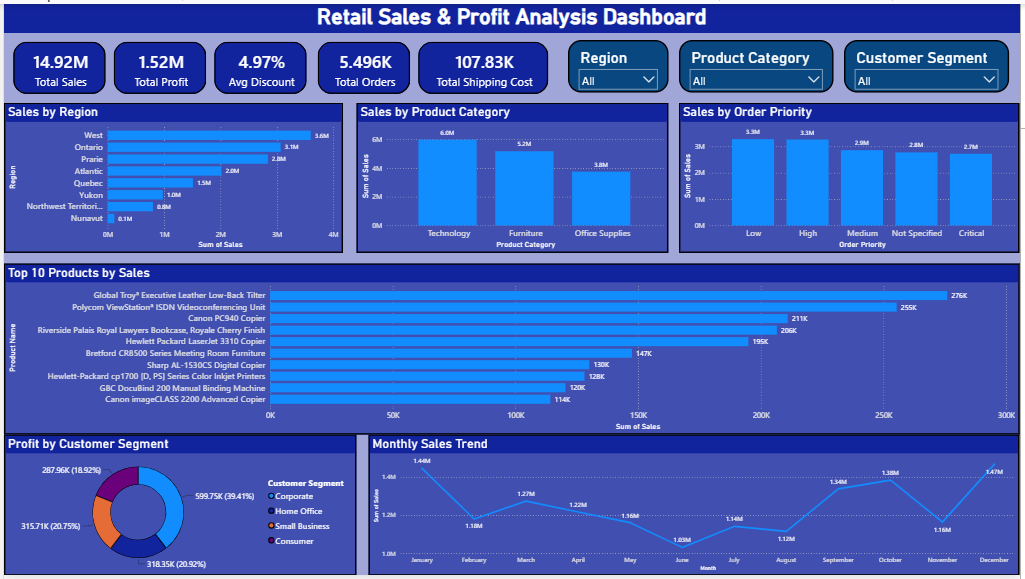

What the dashboard file says about the page in this screenshot:
{"tool":"powerbi","page":{"name":"Page 1","canvas":[1920,1080],"ordinal":0},"visuals":[{"type":"cardVisual","fields":{"Data":["Sum(Sheet1.Sales)"]},"box":[0,53.9,209.8,133.2],"z":0},{"type":"cardVisual","fields":{"Data":["Sum(Sheet1.Profit)"]},"box":[189.9,53.9,209.8,133.2],"z":1000},{"type":"cardVisual","fields":{"Data":["Sheet1.Total Orders"]},"box":[575.4,53.9,209.8,133.2],"z":2000},{"type":"cardVisual","fields":{"Data":["Avg(Sheet1.Discount)"]},"box":[379.8,53.9,209.8,133.2],"z":3000},{"type":"clusteredBarChart","title":"Sales by Region","fields":{"Category":["Sheet1.Region"],"Y":["Sum(Sheet1.Sales)"]},"box":[0,187.1,640.6,283.5],"z":4000},{"type":"clusteredColumnChart","title":"Sales by Product Category","fields":{"Category":["Sheet1.Product Category"],"Y":["Sum(Sheet1.Sales)"]},"box":[666.1,187.1,589.6,283.5],"z":5000},{"type":"clusteredBarChart","title":"Top 10 Products by Sales","fields":{"Category":["Sheet1.Product Name"],"Y":["Sum(Sheet1.Sales)"]},"box":[0,490.4,1919.1,323.2],"z":6000},{"type":"donutChart","title":"Profit by Customer Segment","fields":{"Category":["Sheet1.Customer Segment"],"Y":["Sum(Sheet1.Profit)"]},"box":[0,813.5,666.1,266.5],"z":7000},{"type":"lineChart","title":"Monthly Sales Trend","fields":{"Category":["Sheet1.Order Date.Variation.Date Hierarchy.Month"],"Y":["Sum(Sheet1.Sales)"]},"box":[688.8,813.5,1230.2,266.5],"z":8000},{"type":"clusteredColumnChart","title":"Sales by Order Priority","fields":{"Category":["Sheet1.Order Priority"],"Y":["Sum(Sheet1.Sales)"]},"box":[1275.6,187.1,643.5,283.5],"z":9000},{"type":"textbox","title":"Retail Sales & Profit Analysis Dashboard","box":[0,0,1919.1,53.9],"z":10000},{"type":"slicer","fields":{"Values":["Sheet1.Region"]},"box":[1065.8,68,189.9,99.2],"z":11000},{"type":"slicer","fields":{"Values":["Sheet1.Product Category"]},"box":[1275.6,68,292,99.2],"z":12000},{"type":"slicer","fields":{"Values":["Sheet1.Customer Segment"]},"box":[1587.4,68,311.8,99.2],"z":13000},{"type":"cardVisual","fields":{"Data":["Sum(Sheet1.Shipping Cost)"]},"box":[765.4,53.9,280.6,133.2],"z":14000}]}

Visuals, with their boxes in screenshot pixels (x1, y1, x2, y2), scaled from the page's 1920x1080 canvas onto the 1025x579 screenshot:
cardVisual - Sum(Sheet1.Sales): (0,29,112,100)
cardVisual - Sum(Sheet1.Profit): (101,29,213,100)
cardVisual - Sheet1.Total Orders: (307,29,419,100)
cardVisual - Avg(Sheet1.Discount): (203,29,315,100)
"Sales by Region" clusteredBarChart: (0,100,342,252)
"Sales by Product Category" clusteredColumnChart: (356,100,670,252)
"Top 10 Products by Sales" clusteredBarChart: (0,263,1024,436)
"Profit by Customer Segment" donutChart: (0,436,356,578)
"Monthly Sales Trend" lineChart: (368,436,1024,578)
"Sales by Order Priority" clusteredColumnChart: (681,100,1024,252)
"Retail Sales & Profit Analysis Dashboard" textbox: (0,0,1024,29)
slicer - Sheet1.Region: (569,36,670,90)
slicer - Sheet1.Product Category: (681,36,837,90)
slicer - Sheet1.Customer Segment: (847,36,1014,90)
cardVisual - Sum(Sheet1.Shipping Cost): (409,29,558,100)
